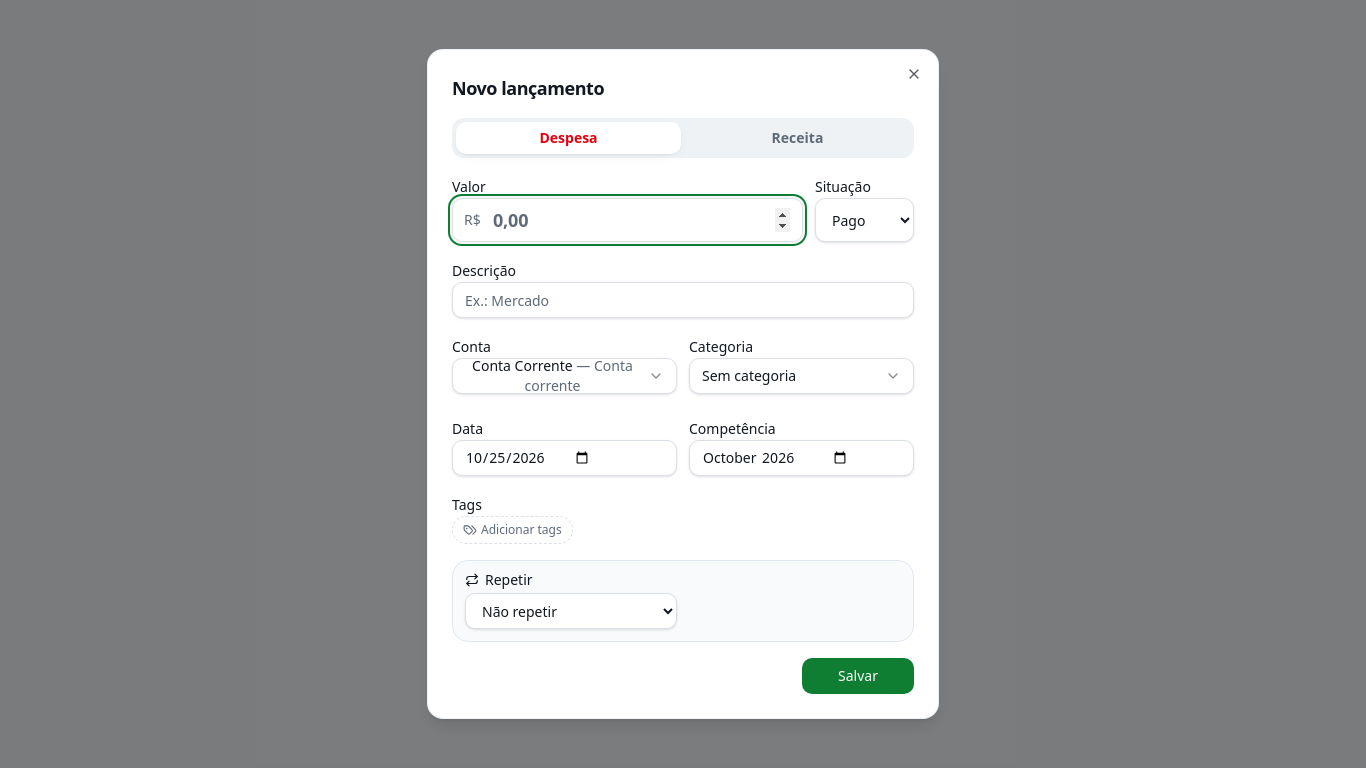
Test: TransactionFormDialog › mostra o erro do backend e mantem o dialog aberto
In the number field labelled "Valor": x=628, y=220 [452,198,803,242], type "10"
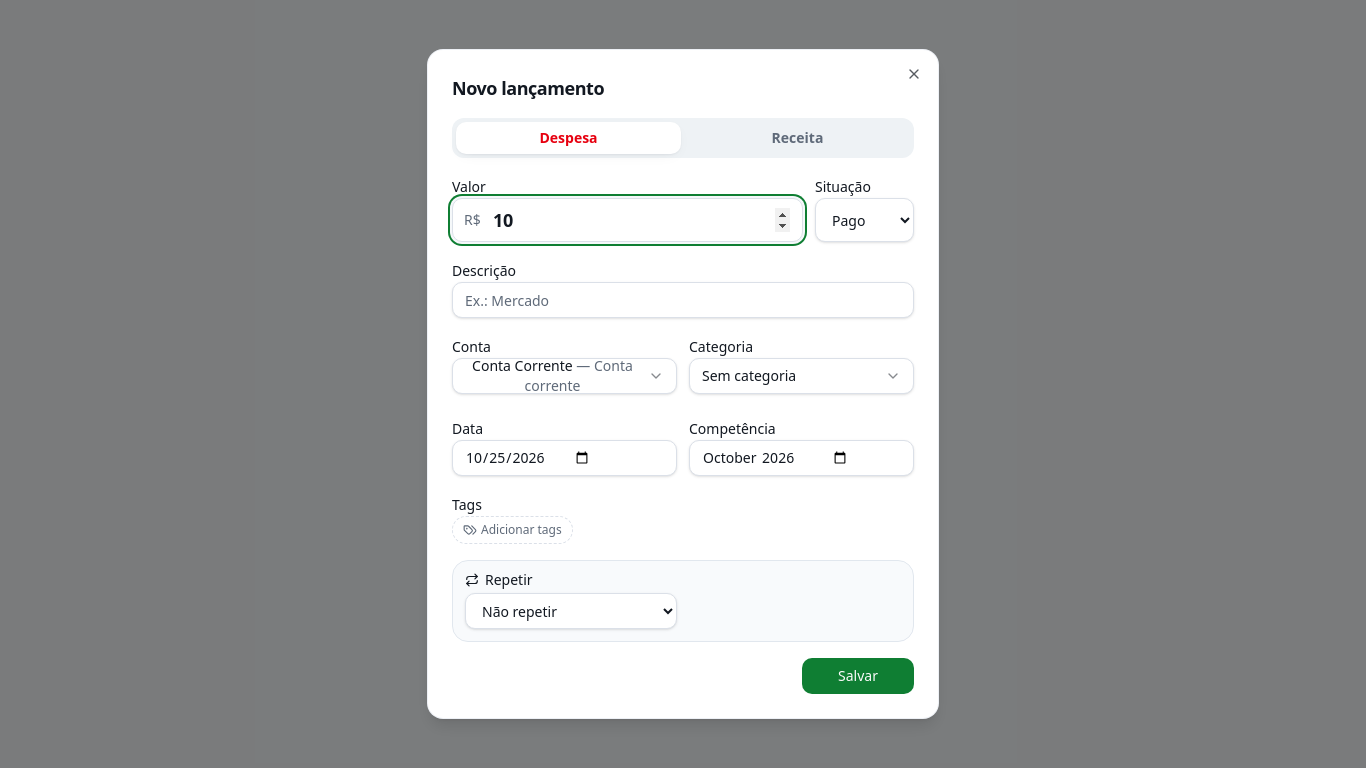
In the field labelled "Descrição": x=683, y=300 [452,282,914,318], type "Café"
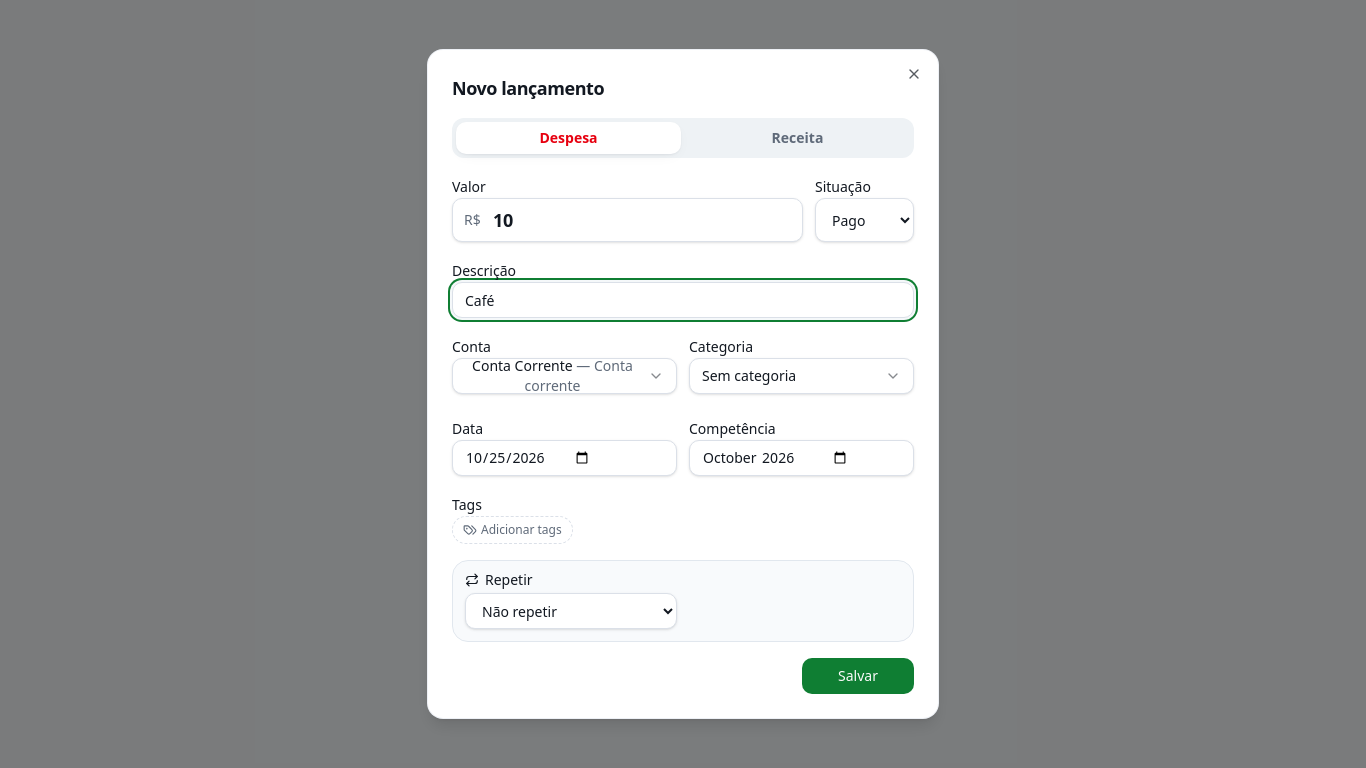
Click the button "Salvar": x=858, y=676 [802,658,914,694]
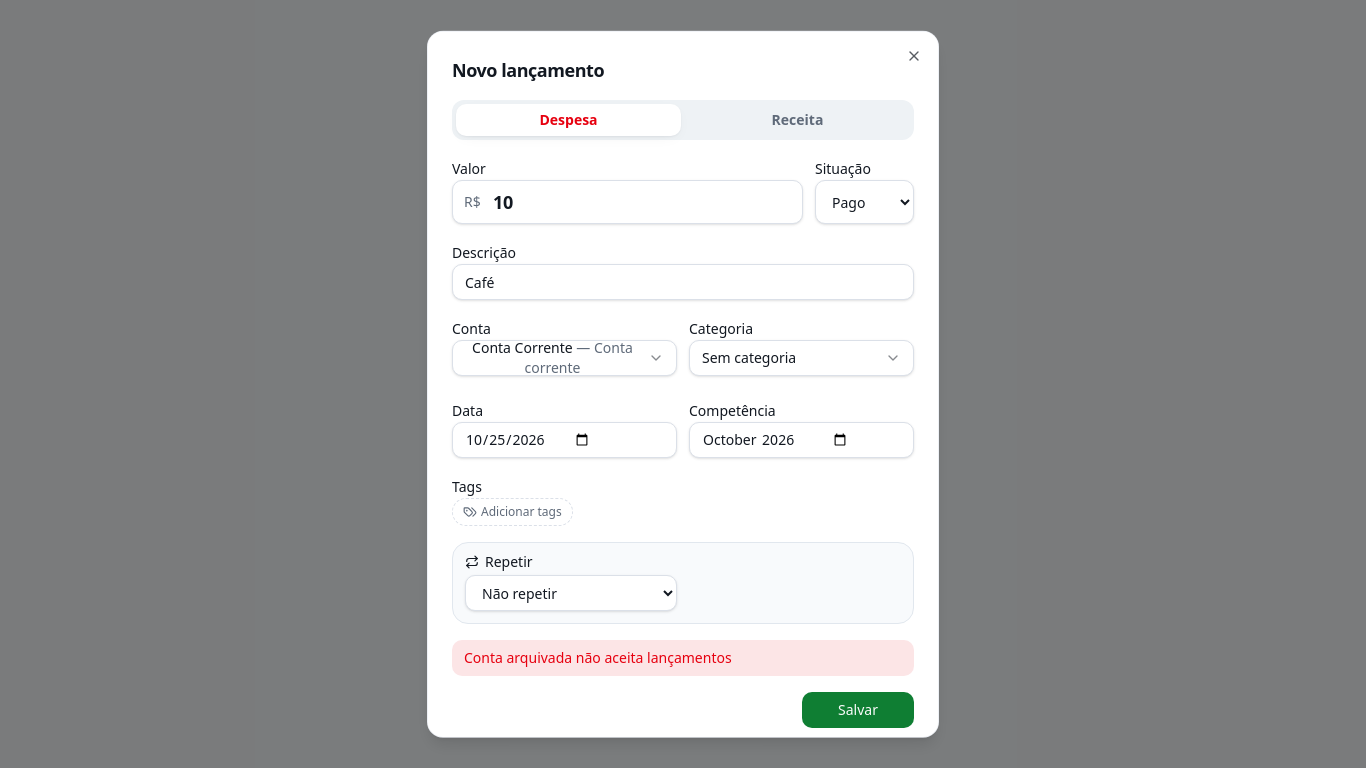
Check: the message reads "Conta arquivada não aceita lançamentos", box [464,648,732,667]
